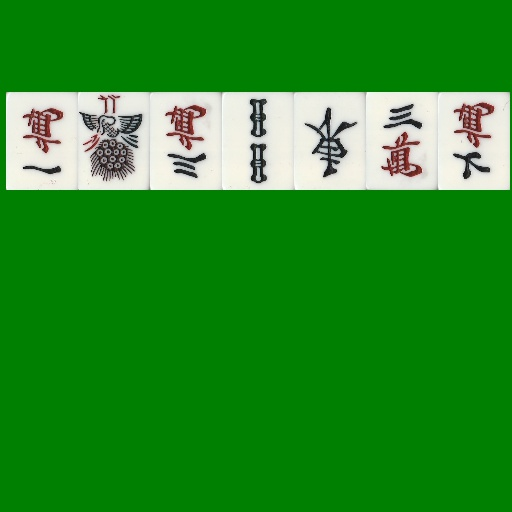1m: (6, 92, 78, 190)
1s: (78, 92, 150, 190)
2s: (222, 92, 294, 190)
3m: (150, 92, 222, 190), (366, 92, 438, 190)
7m: (438, 92, 510, 190)
east: (294, 92, 366, 190)
